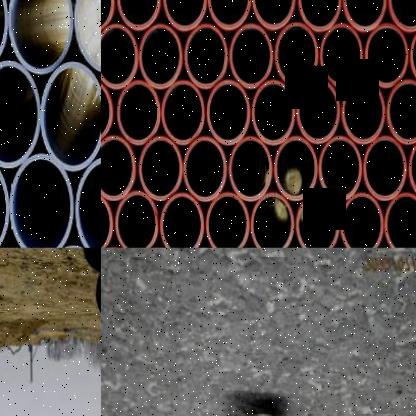pipe: (40, 62, 101, 171), (9, 154, 75, 248), (8, 0, 73, 75), (0, 61, 40, 168), (184, 23, 229, 90), (228, 137, 273, 203), (183, 137, 228, 203), (273, 135, 318, 201), (206, 80, 251, 146), (116, 79, 161, 145), (297, 78, 342, 144), (364, 22, 409, 88), (274, 23, 319, 88), (341, 79, 385, 145), (364, 136, 408, 201), (318, 136, 362, 201), (161, 80, 205, 145), (230, 24, 274, 89), (253, 80, 296, 146), (320, 22, 364, 86), (139, 24, 182, 89), (139, 136, 182, 200), (115, 190, 159, 248), (160, 192, 205, 248), (101, 22, 138, 89), (250, 192, 294, 248), (340, 192, 384, 247), (296, 192, 340, 247), (205, 192, 249, 247), (75, 156, 101, 248), (101, 135, 136, 202), (386, 78, 416, 145), (74, 0, 100, 72), (384, 190, 416, 248), (116, 0, 161, 32), (342, 0, 386, 32), (298, 0, 342, 32), (162, 0, 207, 31), (207, 0, 251, 31), (250, 0, 294, 31), (387, 0, 416, 32), (101, 79, 115, 145), (101, 190, 114, 247), (408, 135, 416, 201), (101, 0, 115, 35), (409, 23, 416, 89)
